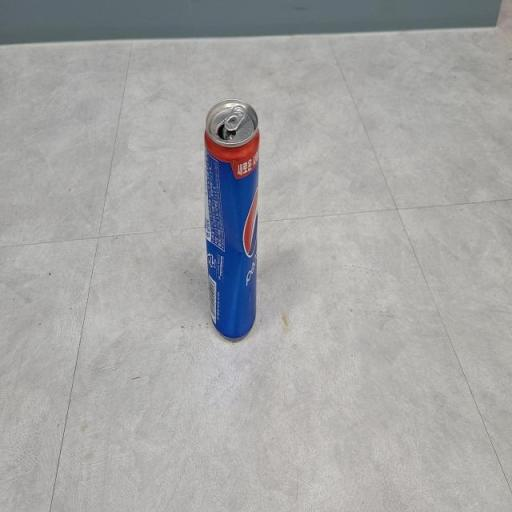metal: (186, 82, 276, 352)
